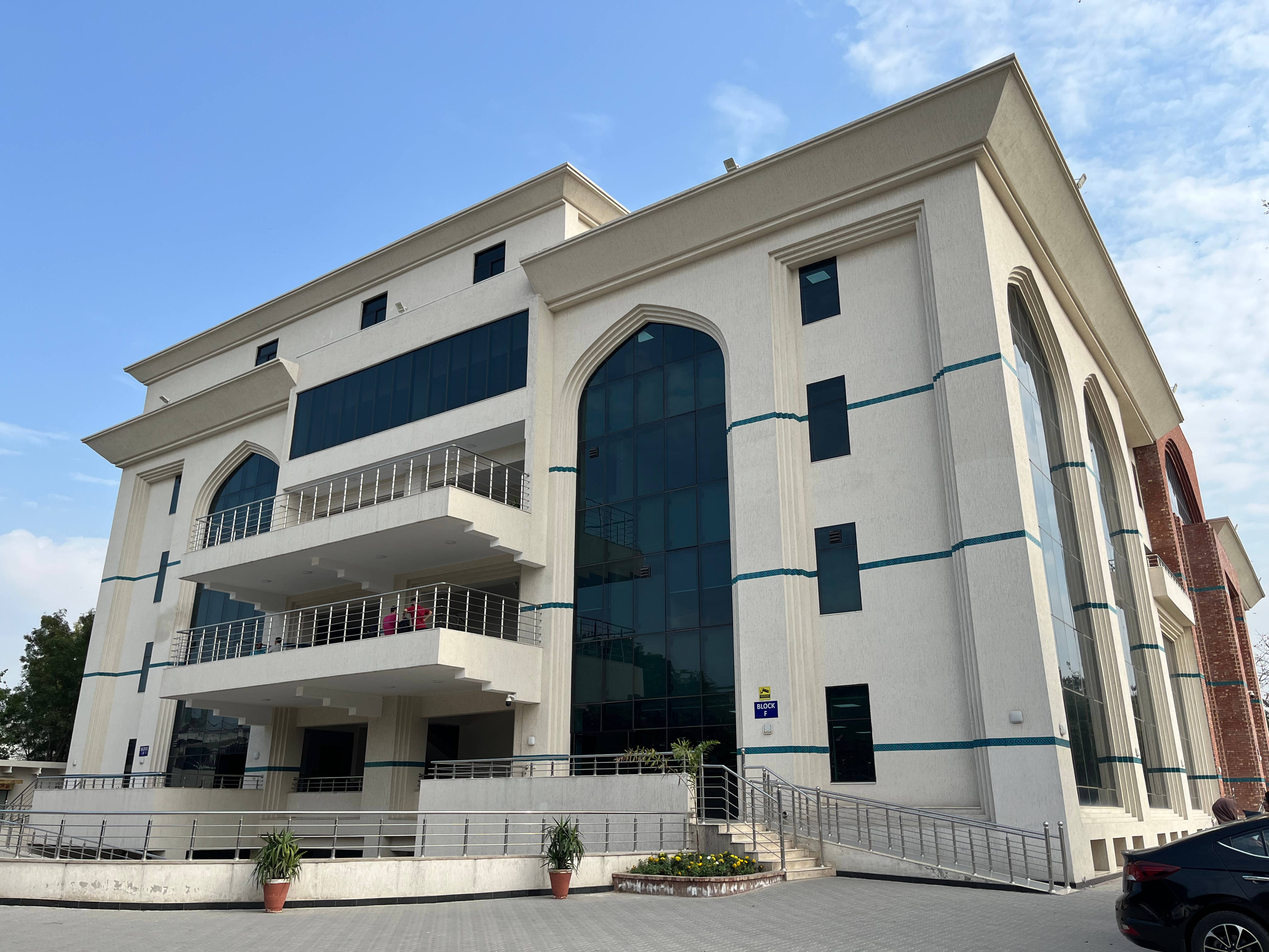Block F: (52, 52, 1269, 892)
